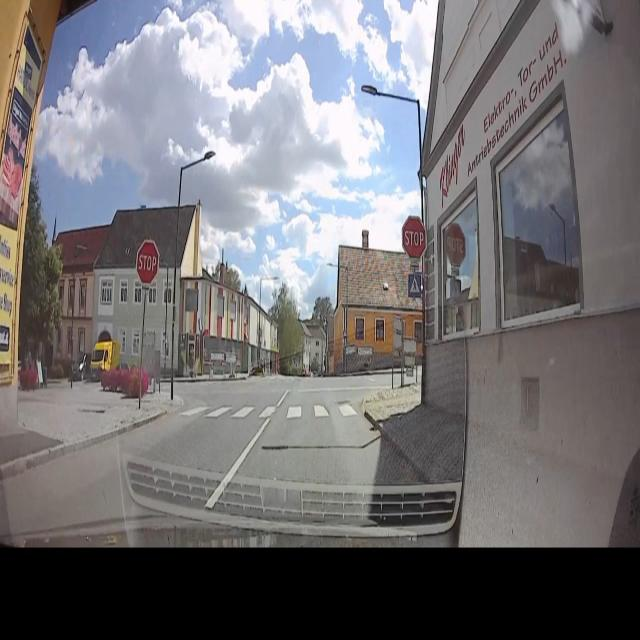Pedestrian crosswalk: (182, 394, 362, 426), (408, 268, 424, 300)
Traffic sign: (399, 212, 428, 259), (135, 237, 159, 285)
